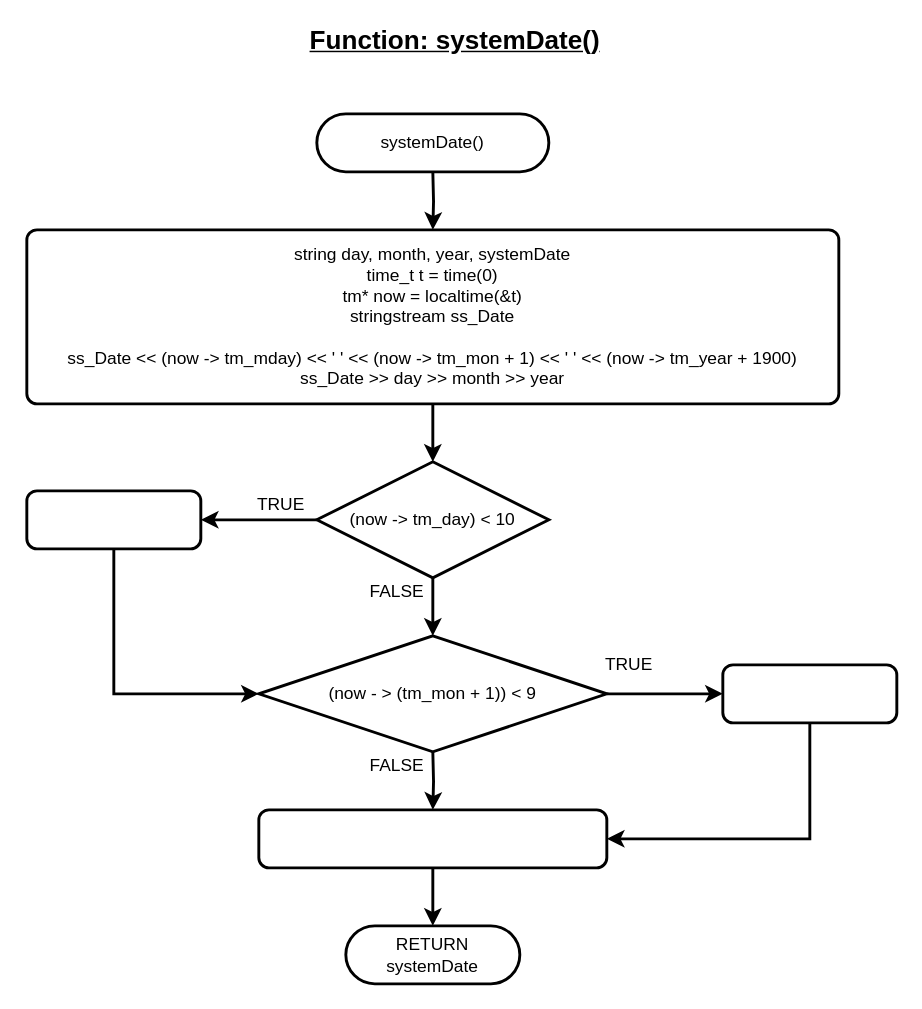
Image size: 922x1009. Some labels were removed from this diagram. Here are the shapes that lost their labels. From the top down, the centre of each, then its label:
pixel 113 519: day = '0' + day
pixel 809 693: month = '0' + month
pixel 432 838: systemDate = day + '/' + month + '/' + year
